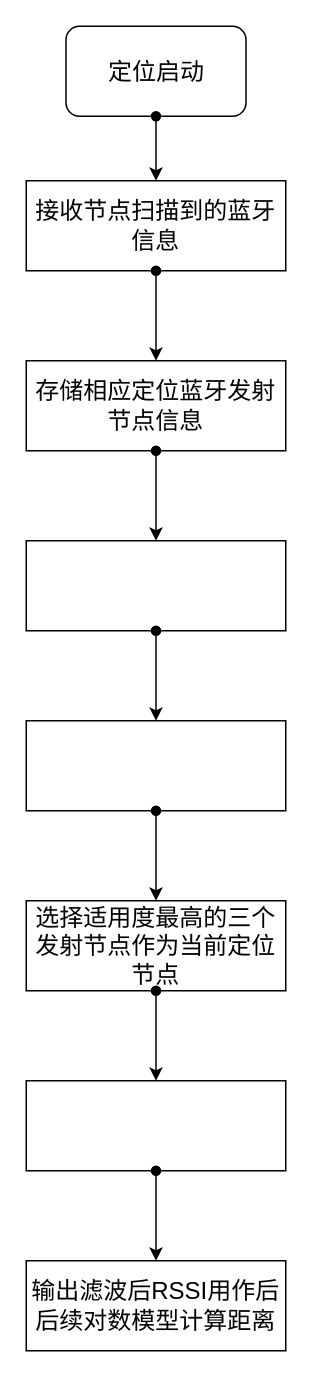
Image size: 312x1377. Some labels were removed from this diagram. The box of each missing label's shape, as (x1, y1, x2, y2) in pixels:
对所选锚点窗口内RSSI数据进行滤波: (25, 1079, 286, 1171)
提取内存中RSSI特征: (25, 539, 286, 631)
根据预先设定的权重对所有发射节点适用度进行排序: (25, 719, 286, 811)
